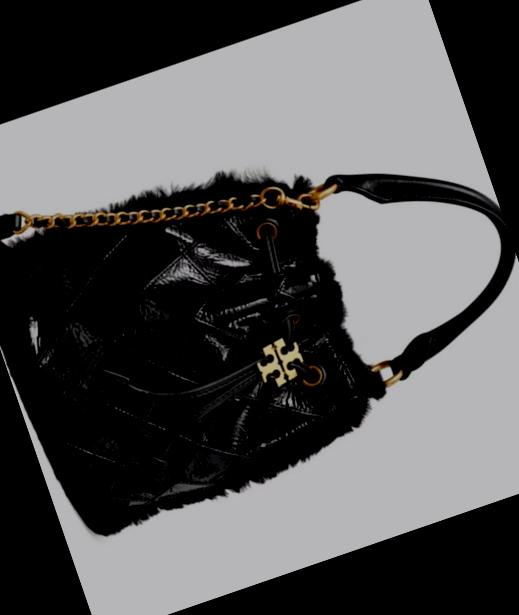TORY-BURCH: (250, 332, 308, 390)
